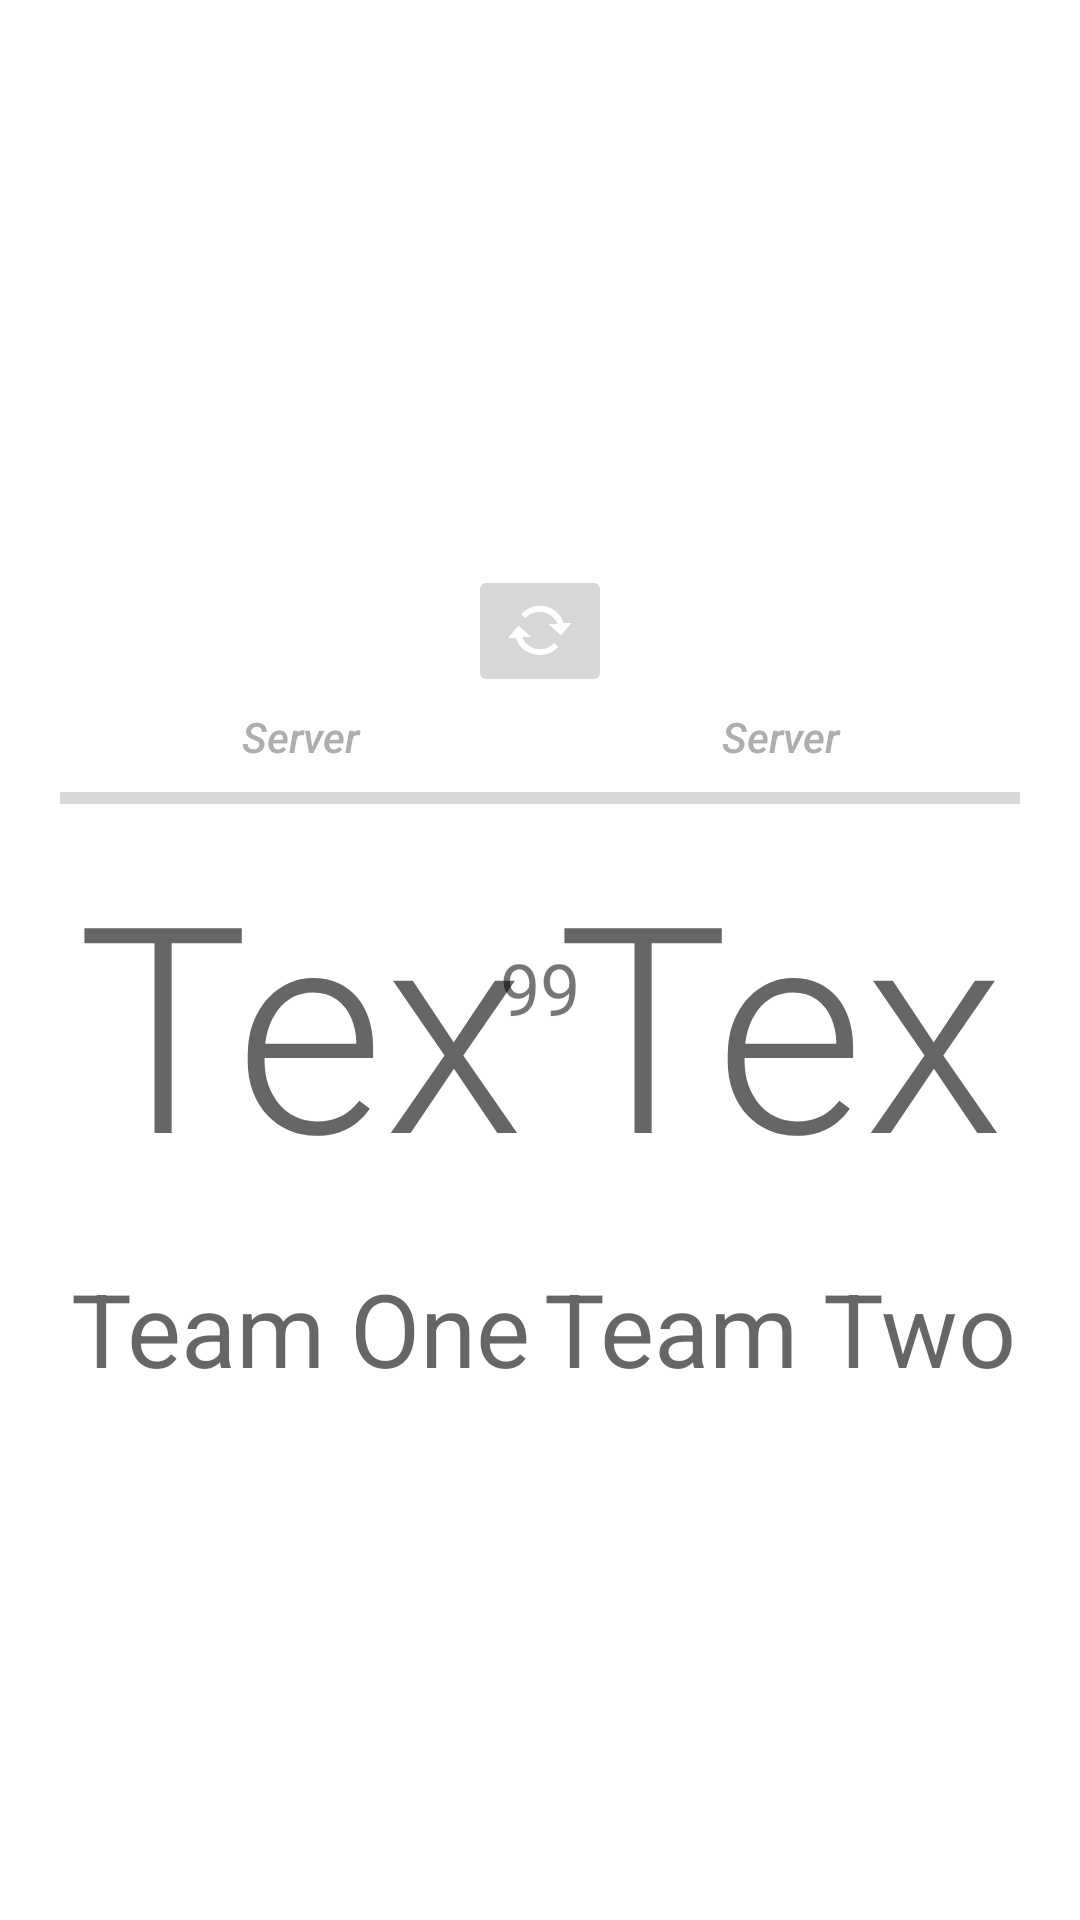

Named icons in this screenshot (1080 x 1920) and their bounding boxes, [x1=x1, y1=y1, x2=x2, y2=y2]:
sync noanim: [x1=480, y1=583, x2=600, y2=679]
